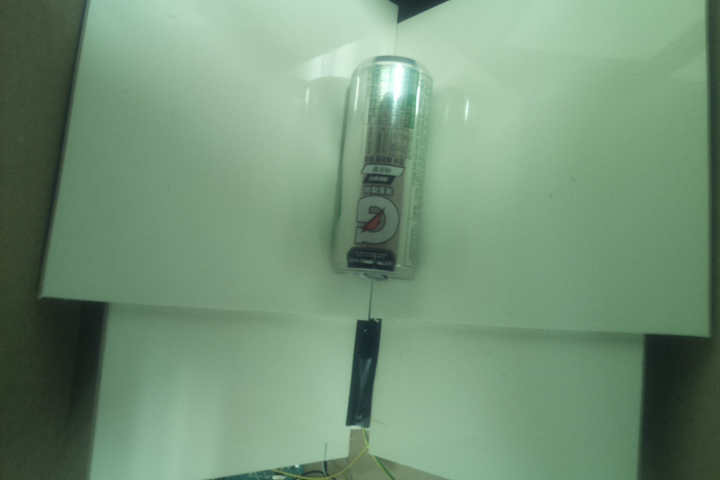can: (330, 53, 434, 283)
